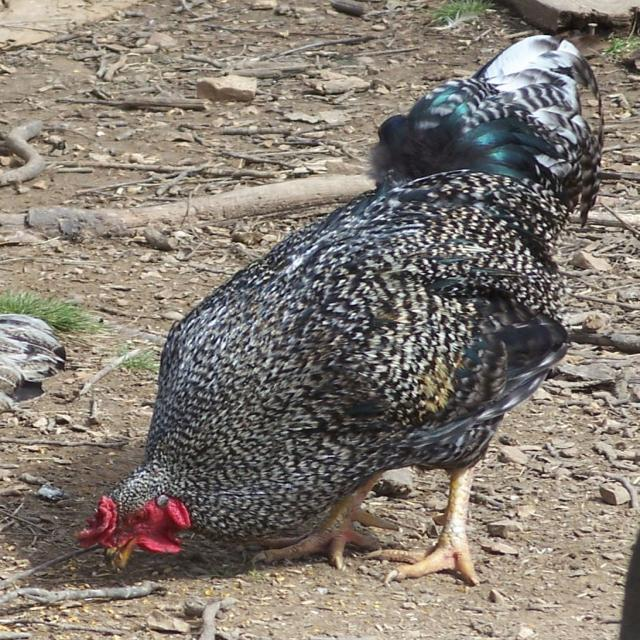Chicken: (90, 26, 604, 585)
